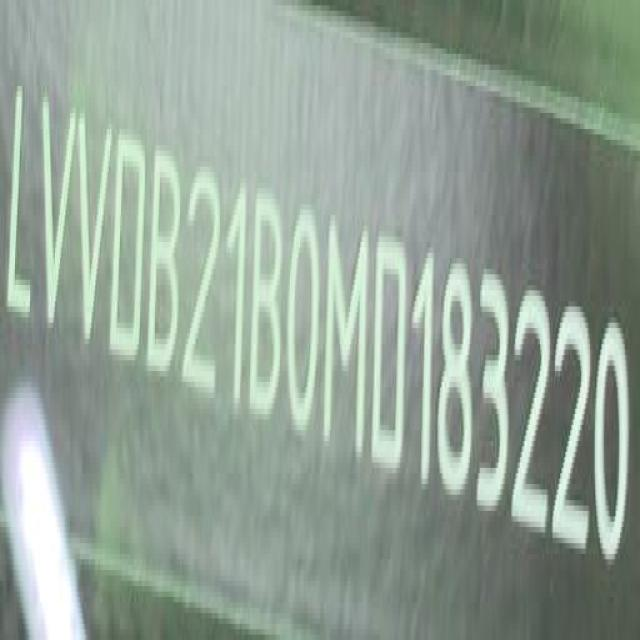0: (594, 313, 633, 569), (289, 204, 325, 444)
1: (412, 244, 436, 493), (225, 176, 248, 414)
2: (551, 301, 593, 559), (513, 287, 553, 540), (186, 160, 224, 402)
3: (478, 267, 511, 517)
8: (438, 256, 474, 504)
B: (148, 143, 184, 384), (251, 185, 286, 422)
D: (373, 232, 415, 482), (111, 127, 147, 366)
L: (2, 80, 35, 328)
M: (323, 215, 371, 463)
V: (35, 92, 75, 340), (75, 114, 114, 356)
